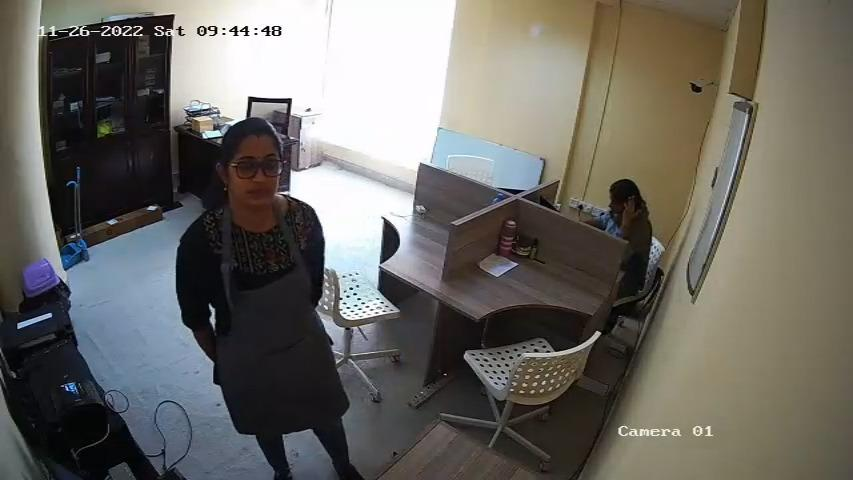apron: (213, 215, 319, 379)
